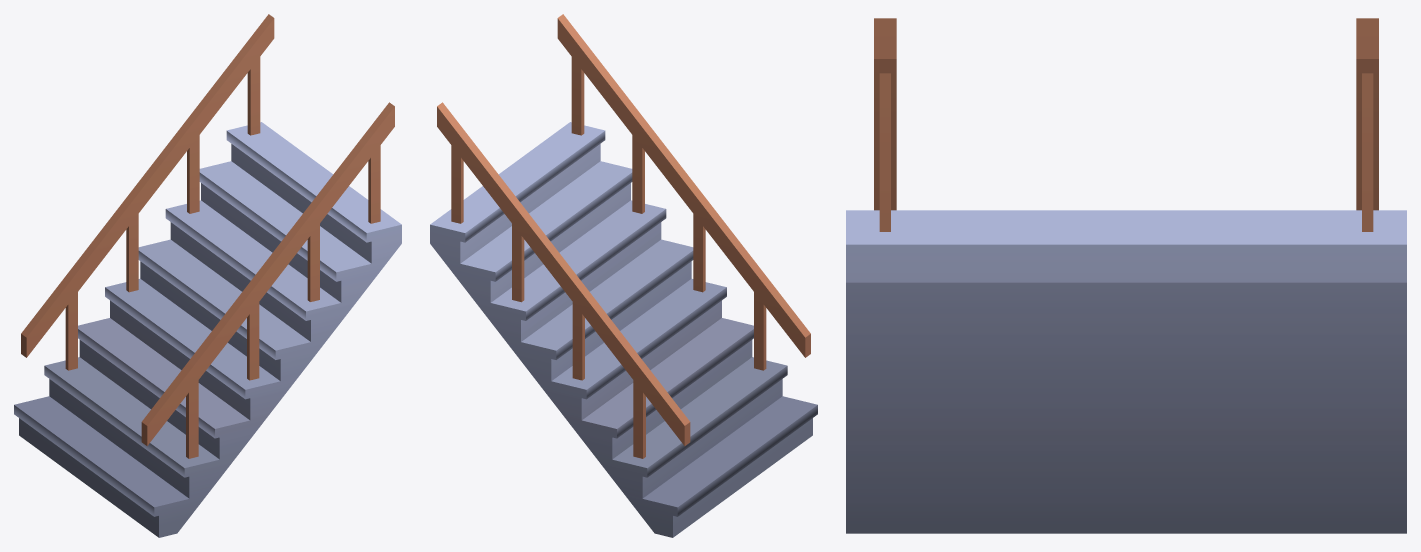
Rendered from stairs-wide-stone-handrail.glb.
The picture shows the model from 3 angles, left to right: view 1: azimuth 30°, elevation 25°; view 2: azimuth 150°, elevation 25°; view 3: azimuth 270°, elevation 25°; orthographic projection. The views are drawn at different scales.
Visible parts, largest first — view 1: stairs-wide-stone-handrail; view 2: stairs-wide-stone-handrail; view 3: stairs-wide-stone-handrail.
Boxes of the visible parts, left/top/right/bottom form: stairs-wide-stone-handrail: left=14, top=14, right=401, bottom=537; stairs-wide-stone-handrail: left=430, top=14, right=817, bottom=537; stairs-wide-stone-handrail: left=846, top=18, right=1406, bottom=533.
Size of the model in its own units: 1.02 by 1.45 by 1.
Materials: 1 (1 with a texture image).
